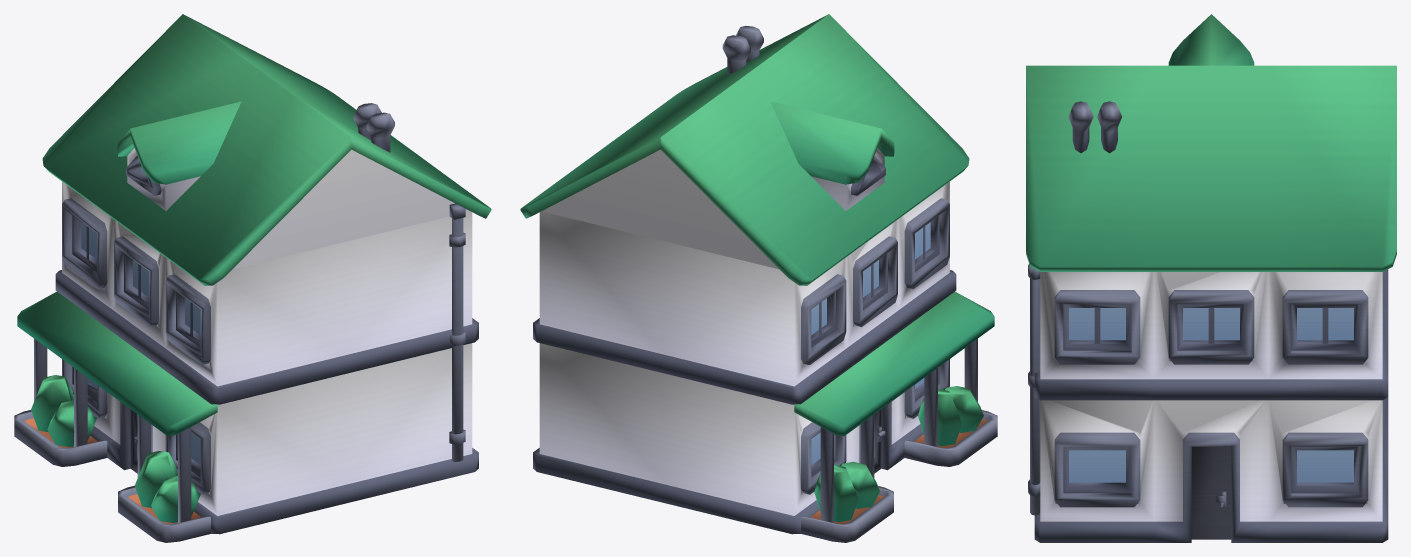
File: n1_building-type-e_lev1.glb
The picture shows the model from 3 angles, left to right: view 1: azimuth 30°, elevation 25°; view 2: azimuth 150°, elevation 25°; view 3: azimuth 270°, elevation 25°; orthographic projection. The views are drawn at different scales.
Parts seen in each view (by area): view 1: n1_building-type-e_lev1; view 2: n1_building-type-e_lev1; view 3: n1_building-type-e_lev1.
Boxes of the visible parts, box(x1,y1,x2,y2) form: n1_building-type-e_lev1: box(14, 14, 491, 542); n1_building-type-e_lev1: box(520, 14, 997, 542); n1_building-type-e_lev1: box(1026, 14, 1396, 542).
Bounding box in the file's own units: 7.97 × 8.56 × 7.1.
Materials: 1 (1 with a texture image).
